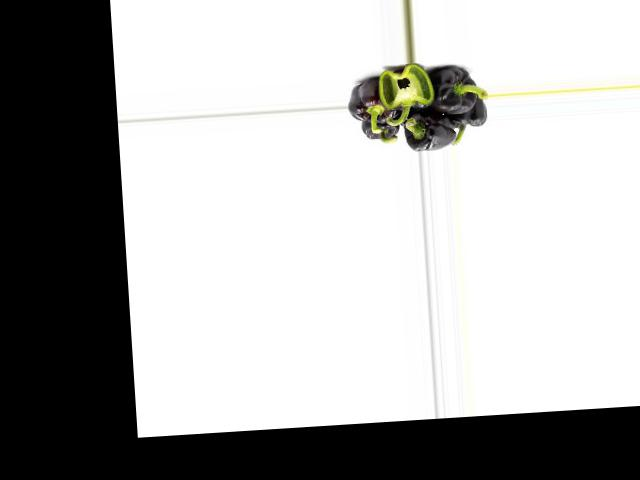bell_pepper: (348, 78, 407, 124)
